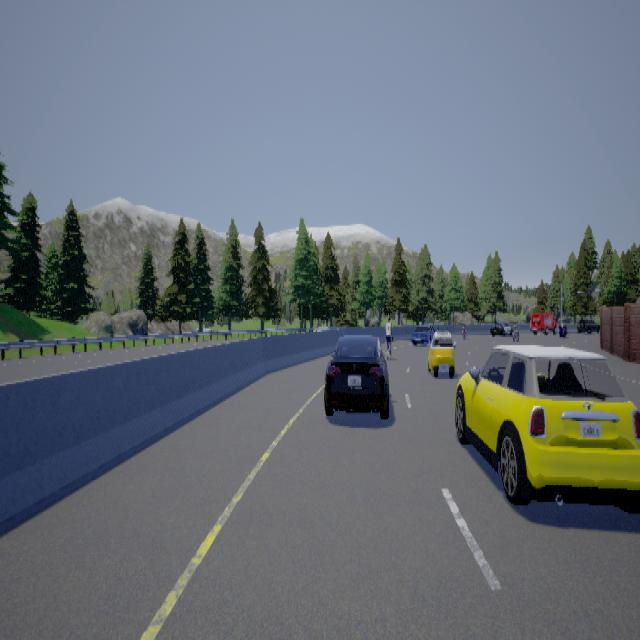bike: (382, 315, 394, 355)
vehicle: (454, 344, 639, 512), (323, 333, 390, 418), (410, 323, 455, 378), (529, 311, 567, 337)
